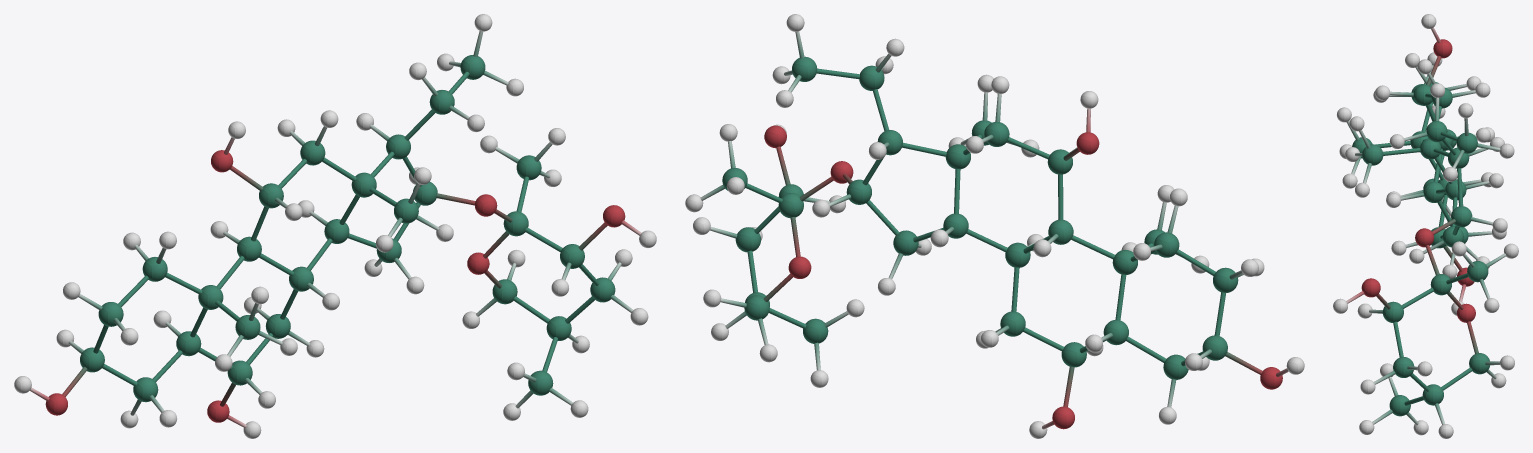
The model's file is Agavegenin A.fbx.
3 views of the same model, side by side, from view 1: azimuth 30°, elevation 25°; view 2: azimuth 150°, elevation 25°; view 3: azimuth 270°, elevation 25° (orthographic). The views are drawn at different scales.
Visible parts, largest first — view 1: curMeshHyperballExportedMesh; view 2: curMeshHyperballExportedMesh; view 3: curMeshHyperballExportedMesh.
Part boxes in pixels (x1,y1,x2,y2): curMeshHyperballExportedMesh: (14,14,656,438); curMeshHyperballExportedMesh: (685,14,1304,438); curMeshHyperballExportedMesh: (1333,14,1518,438).
Size of the model in its own units: 15.85 by 9.63 by 4.92.
